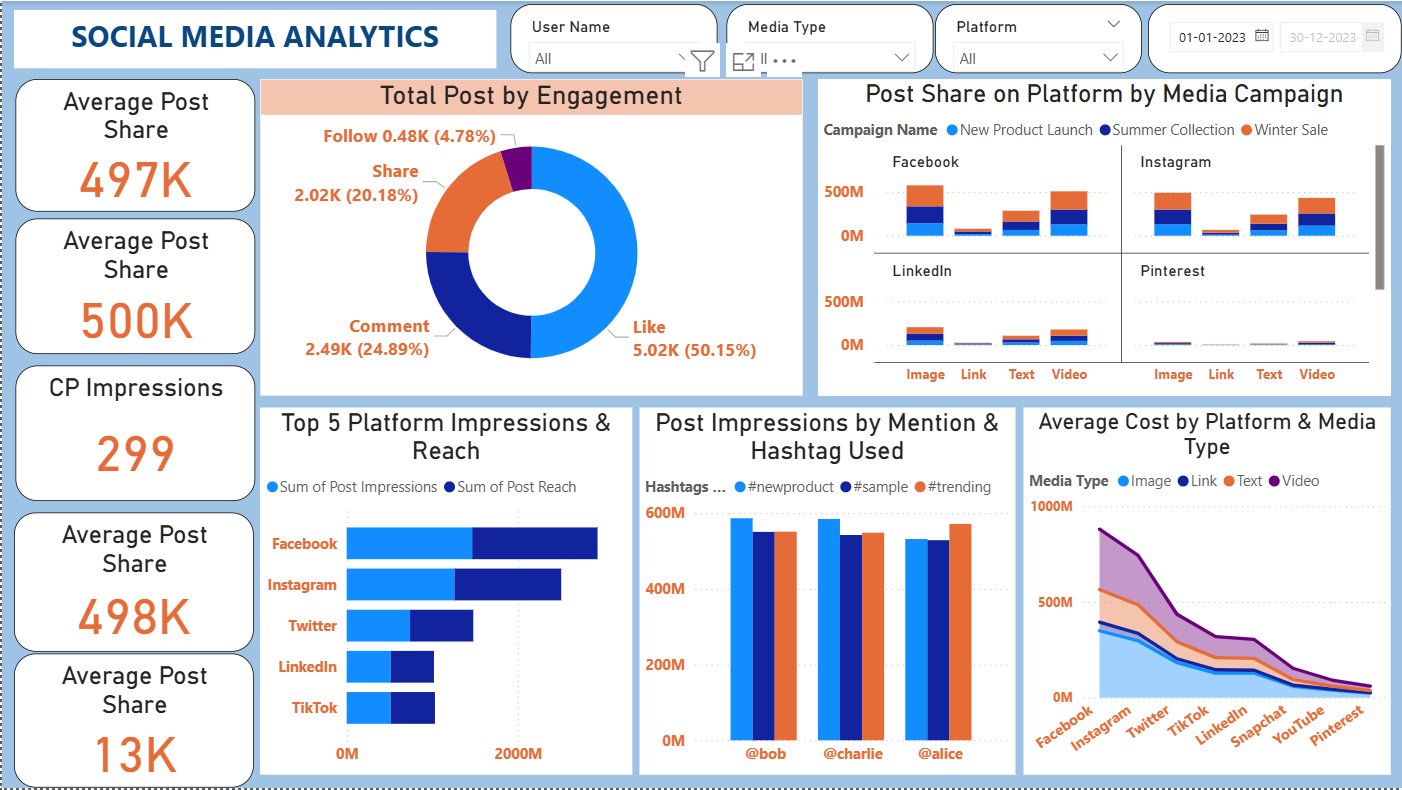

The dashboard page shown, as its layout file describes it:
{"tool":"powerbi","page":{"name":"Page 1","canvas":[1280,720],"ordinal":0},"visuals":[{"type":"textbox","box":[10.7,7.7,441.3,53.6],"z":0},{"type":"card","title":"Average Post Share","fields":{"Values":["Avg(Sheet1 (2).Post Shares)"]},"box":[12.1,71.2,219.6,121.1],"z":1000},{"type":"card","title":"Average Post Share","fields":{"Values":["Avg(Sheet1 (2).Post Impressions)"]},"box":[12.1,198.4,219.6,124.2],"z":2000},{"type":"card","title":"Average Post Share","fields":{"Values":["Avg(Sheet1 (2).Post Reach)"]},"box":[10.6,467.9,219.6,127.2],"z":3000},{"type":"card","title":"Average Post Share","fields":{"Values":["Avg(Sheet1 (2).Engagement Count)"]},"box":[10.6,596.6,219.6,122.7],"z":4000},{"type":"card","title":"CP Impressions","fields":{"Values":["Sheet1 (2).CP Impressions"]},"box":[12.1,333.1,219.6,124.2],"z":5000},{"type":"slicer","fields":{"Values":["Sheet1 (2).User Name"]},"box":[464.9,3,189.3,63.6],"z":6000},{"type":"slicer","fields":{"Values":["Sheet1 (2).Media Type"]},"box":[662.5,3,189.3,63.6],"z":7000},{"type":"slicer","fields":{"Values":["Sheet1 (2).Platform"]},"box":[854,3,189.3,63.6],"z":8000},{"type":"slicer","fields":{"Values":["Sheet1 (2).Post Date & Time"]},"box":[1047.8,3,231.7,63.6],"z":9000},{"type":"donutChart","title":"Total Post by Engagement","fields":{"Y":["CountNonNull(Sheet1 (2).Record ID)"],"Category":["Sheet1 (2).Engagement Type"]},"box":[236.2,71.2,496.7,289.2],"z":10000},{"type":"lineStackedColumnComboChart","title":"Post Share on Platform by Media Campaign","fields":{"Y":["Sum(Sheet1 (2).Post Shares)"],"Category":["Sheet1 (2).Media Type"],"Rows":["Sheet1 (2).Platform"],"Series":["Sheet1 (2).Campaign Name"]},"box":[746.5,71.2,523.9,289.2],"z":11000},{"type":"barChart","title":"Top 5 Platform Impressions & Reach","fields":{"Category":["Sheet1 (2).Platform"],"Y":["Sum(Sheet1 (2).Post Impressions)","Sum(Sheet1 (2).Post Reach)"]},"box":[236.2,372.5,340.7,336.2],"z":12000},{"type":"clusteredColumnChart","title":"Post Impressions by Mention & Hashtag Used","fields":{"Category":["Sheet1 (2).Mentions"],"Y":["Sum(Sheet1 (2).Post Impressions)"],"Series":["Sheet1 (2).Hashtags Used"]},"box":[583,372.5,343.7,336.2],"z":13000},{"type":"stackedAreaChart","title":"Average Cost by Platform & Media Type","fields":{"Category":["Sheet1 (2).Platform"],"Y":["Sum(Sheet1 (2).Amount in USD)"],"Series":["Sheet1 (2).Media Type"]},"box":[934.3,372.5,336.2,336.2],"z":14000}]}

Visuals, with their boxes in screenshot pixels (x1, y1, x2, y2), scaled from the page's 1280x720 canvas onto the 1402x790 screenshot:
textbox: select_region(12, 8, 495, 67)
"Average Post Share" card: select_region(13, 78, 254, 211)
"Average Post Share" card: select_region(13, 218, 254, 354)
"Average Post Share" card: select_region(12, 513, 252, 653)
"Average Post Share" card: select_region(12, 655, 252, 789)
"CP Impressions" card: select_region(13, 365, 254, 502)
slicer - Sheet1 (2).User Name: select_region(509, 3, 717, 73)
slicer - Sheet1 (2).Media Type: select_region(726, 3, 933, 73)
slicer - Sheet1 (2).Platform: select_region(935, 3, 1143, 73)
slicer - Sheet1 (2).Post Date & Time: select_region(1148, 3, 1401, 73)
"Total Post by Engagement" donutChart: select_region(259, 78, 803, 395)
"Post Share on Platform by Media Campaign" lineStackedColumnComboChart: select_region(818, 78, 1391, 395)
"Top 5 Platform Impressions & Reach" barChart: select_region(259, 409, 632, 778)
"Post Impressions by Mention & Hashtag Used" clusteredColumnChart: select_region(639, 409, 1015, 778)
"Average Cost by Platform & Media Type" stackedAreaChart: select_region(1023, 409, 1392, 778)
